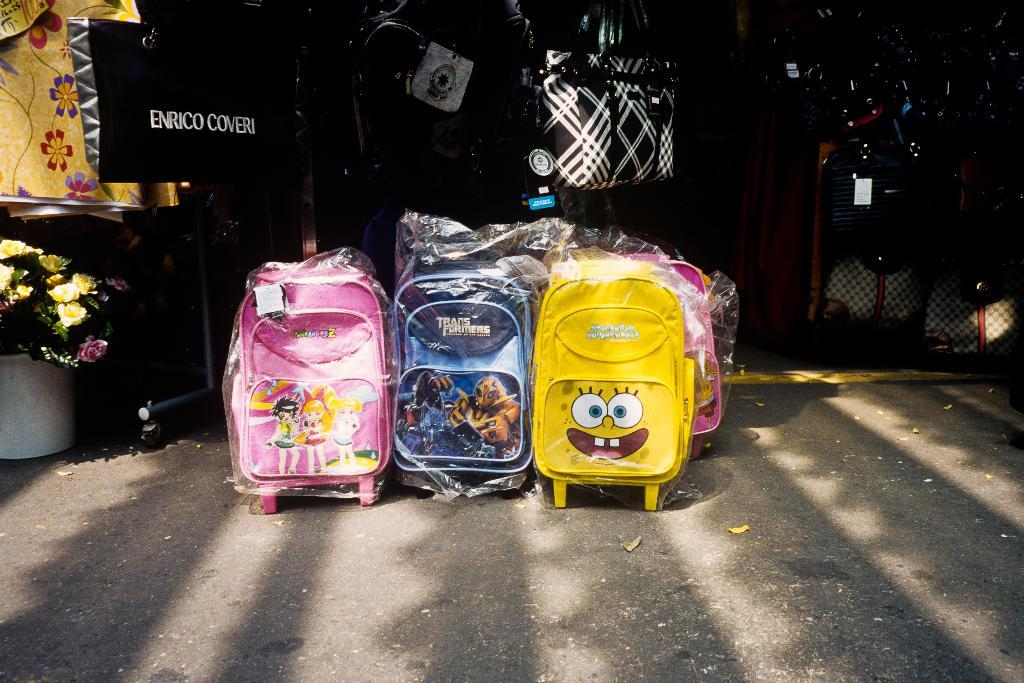Luggage-and-bags: (213, 258, 402, 491), (537, 270, 700, 511), (385, 270, 536, 488), (547, 0, 687, 195), (611, 250, 728, 450)
